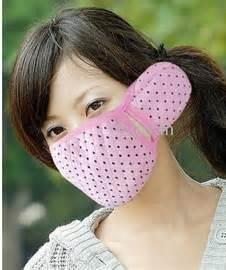OK: (40, 89, 156, 205)
